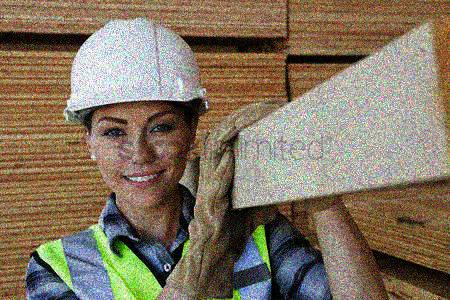helmet: (67, 14, 208, 209)
